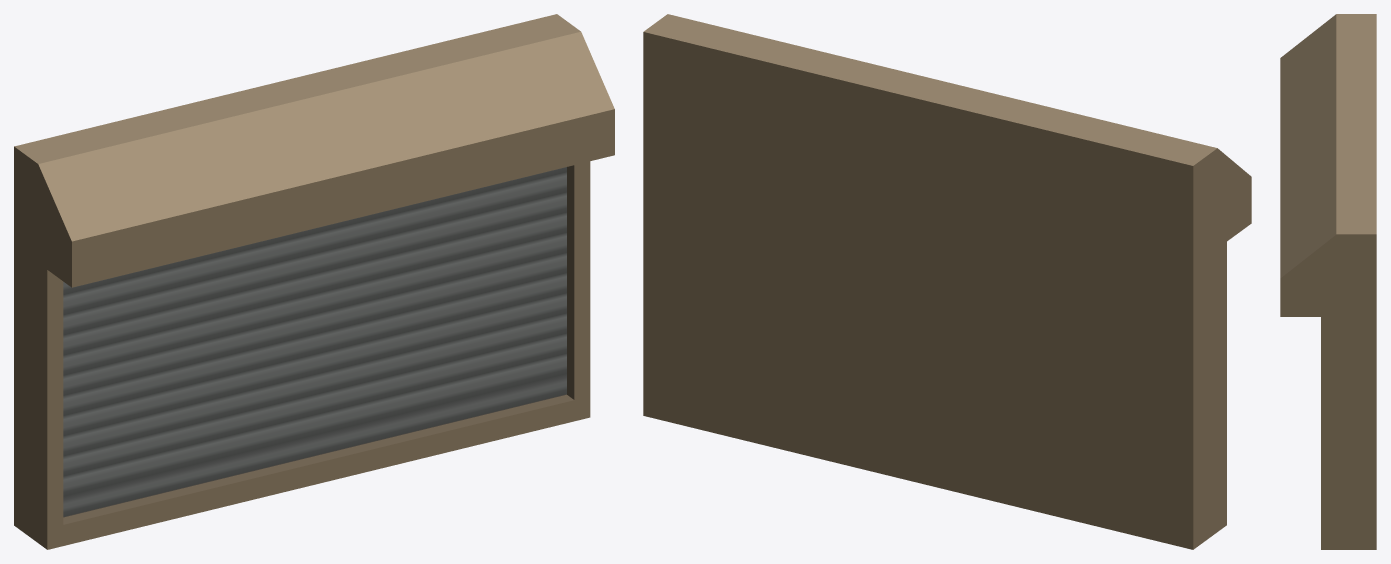
The model's file is Window_B12.fbx.
3 views of the same model, side by side, from view 1: azimuth 30°, elevation 25°; view 2: azimuth 150°, elevation 25°; view 3: azimuth 270°, elevation 25° (orthographic). The views are drawn at different scales.
Visible parts, largest first — view 1: Window_B12; view 2: Window_B12; view 3: Window_B12.
Part boxes in pixels (bbox=[...]): Window_B12: bbox=[14, 14, 614, 549]; Window_B12: bbox=[643, 14, 1251, 549]; Window_B12: bbox=[1280, 14, 1376, 549].
Bounding box in the file's own units: 421 × 281 × 77.55.
